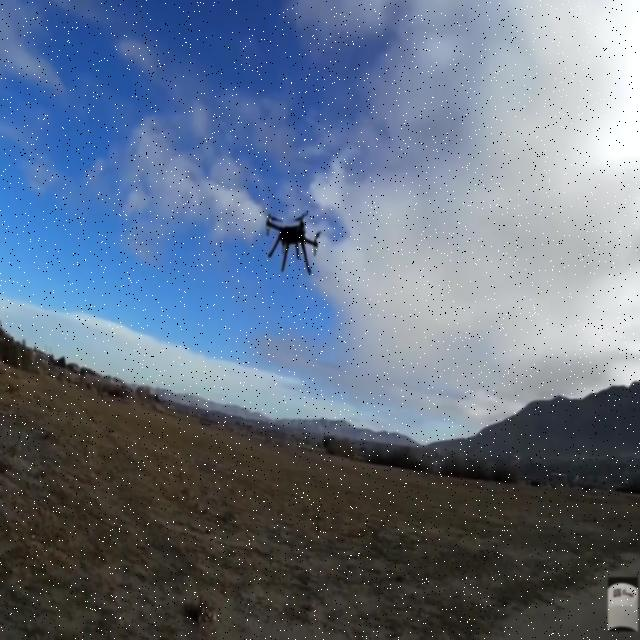UAV: (264, 209, 322, 274)
